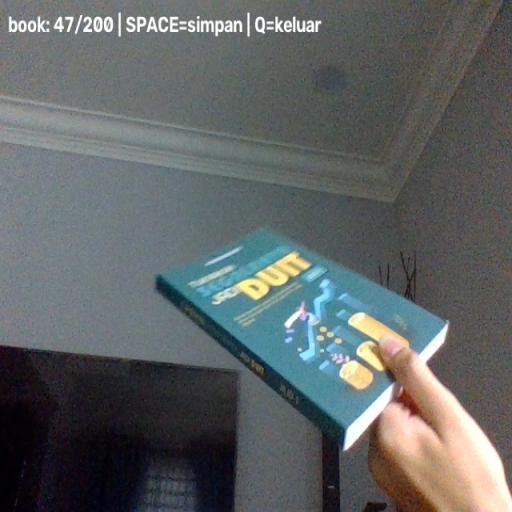Book: (155, 226, 449, 451)
